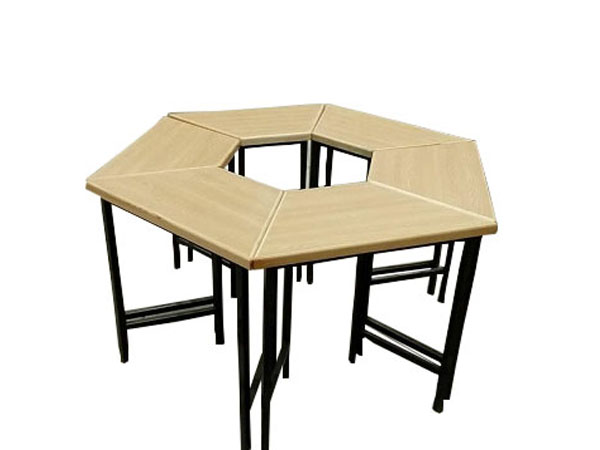m01: (85, 103, 499, 450)
